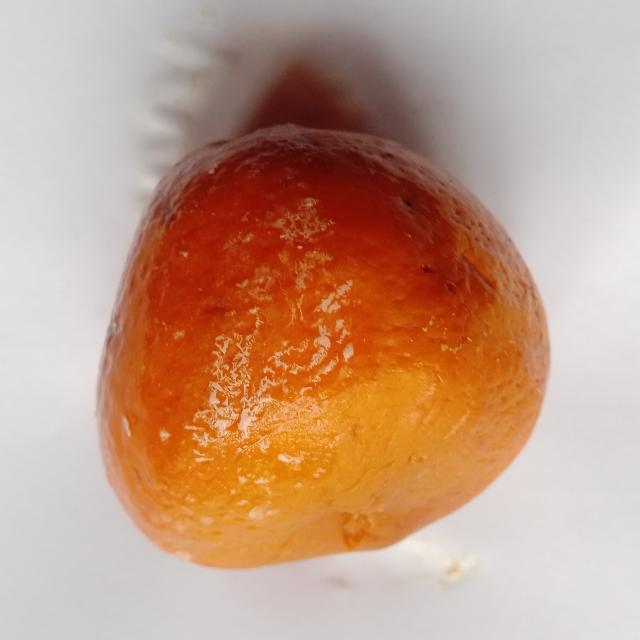orange: (99, 126, 548, 567)
